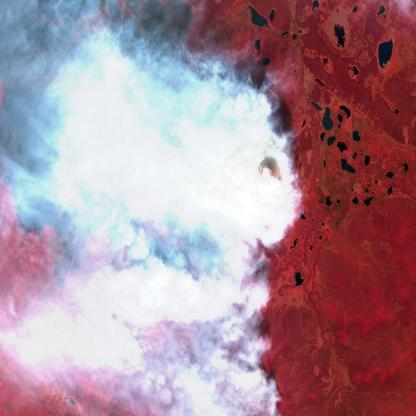fire: (176, 48, 288, 230)
